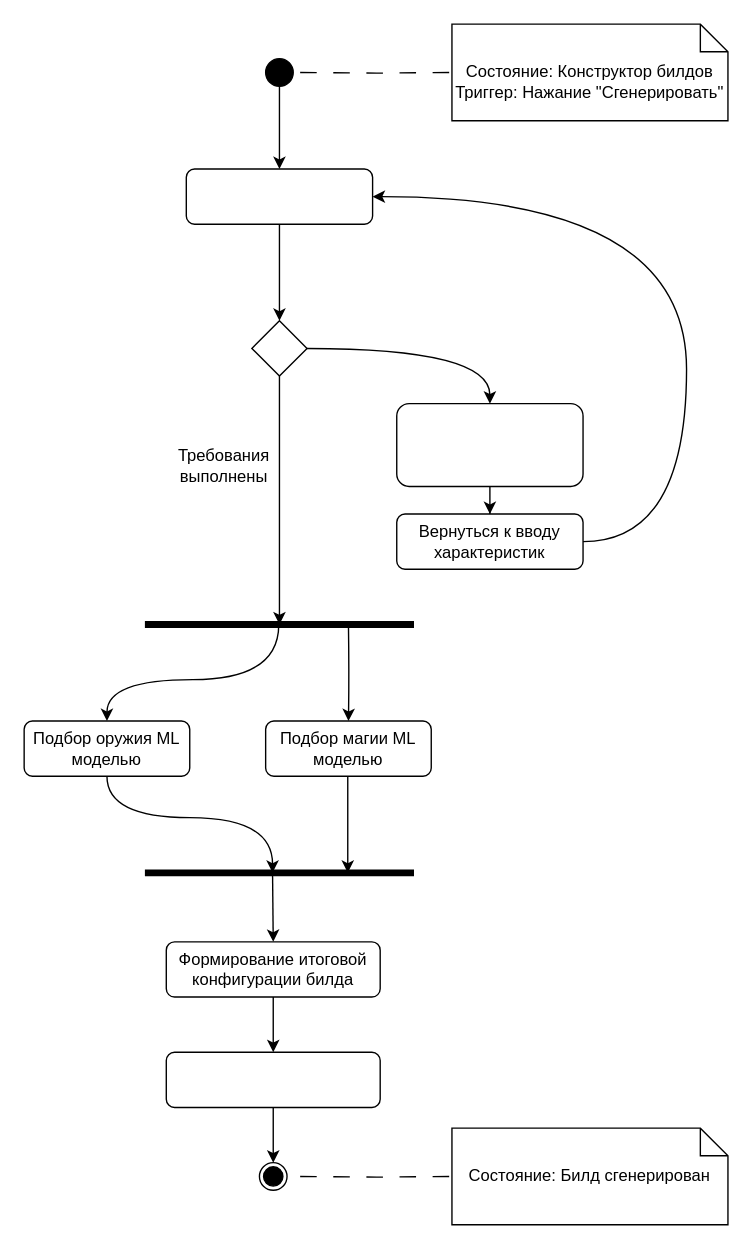
Image size: 752x1249. Some labels were removed from this diagram. The shapes that lost their labels are listed below. From the top down, each one's centre as x and y in pixels, then its label:
At point 279,196: "Ввод характеристик персонажа".
At point 489,444: "Показать ошибку: каких характеристик не хватает".
At point 272,1079: "Отображение билда пользователю".
